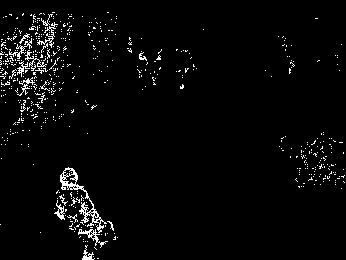person: (52, 164, 117, 260)
